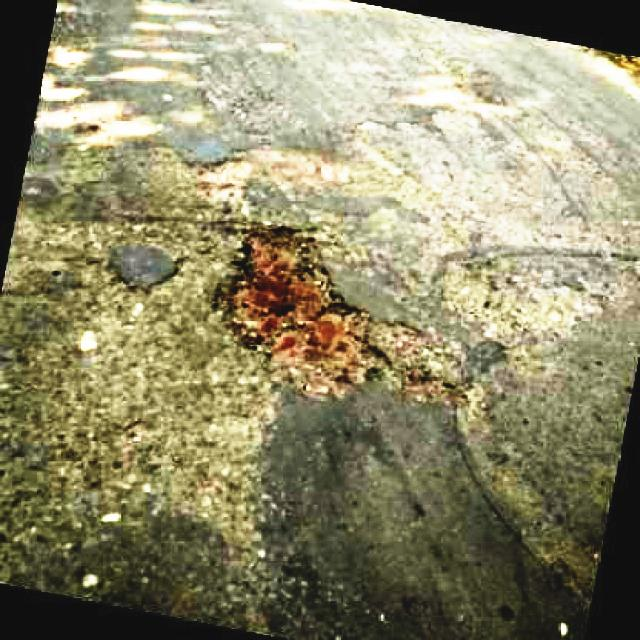pothole: (222, 220, 388, 388), (469, 269, 600, 365), (388, 322, 475, 403), (198, 153, 264, 224)
